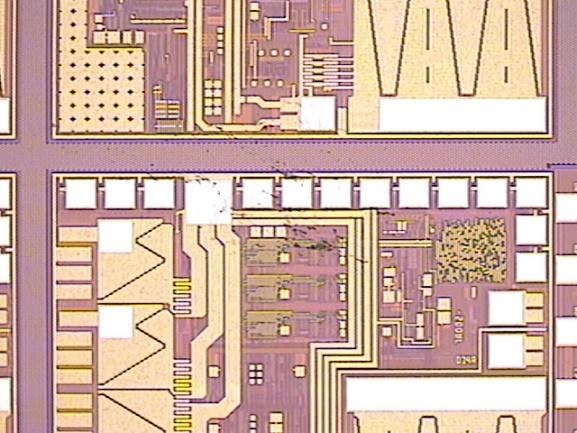SCRATCH: (144, 123, 374, 268)
